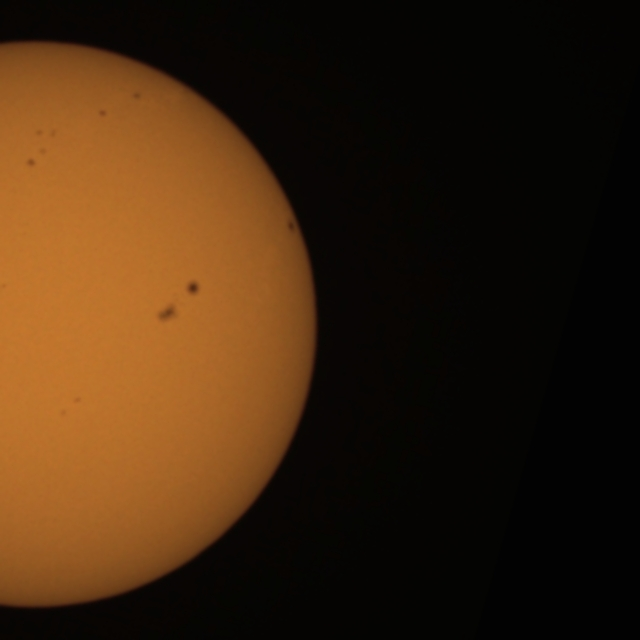sunspot: (25, 142, 50, 169), (58, 395, 83, 419), (155, 302, 179, 325), (34, 127, 58, 144), (184, 278, 202, 298), (285, 218, 297, 236), (131, 90, 143, 103), (25, 157, 37, 169), (72, 395, 83, 406), (97, 108, 108, 119), (0, 281, 8, 292)
